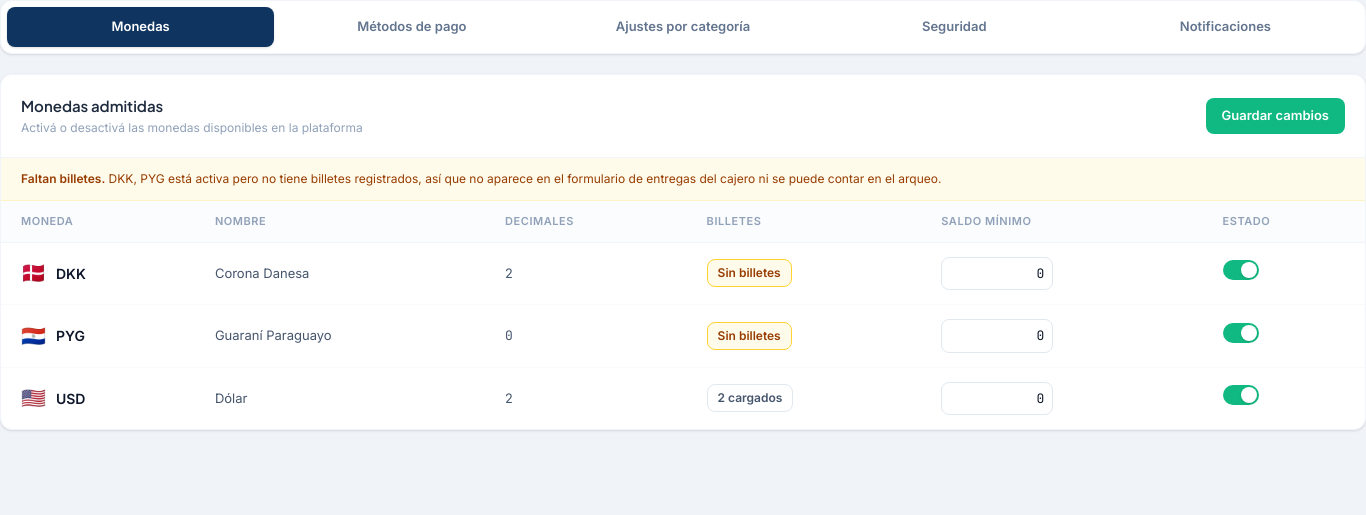
Scenario: Configuration (API + tabs) › guarda un ajuste de precio por categoría
The width and height of the screenshot is (1366, 515).
Check: the heading "Monedas admitidas" is shown, box x1=21 y1=96 x2=163 y2=114
Click the button "Ajustes por categoría" at (683, 27), box x1=549 y1=7 x2=817 y2=46
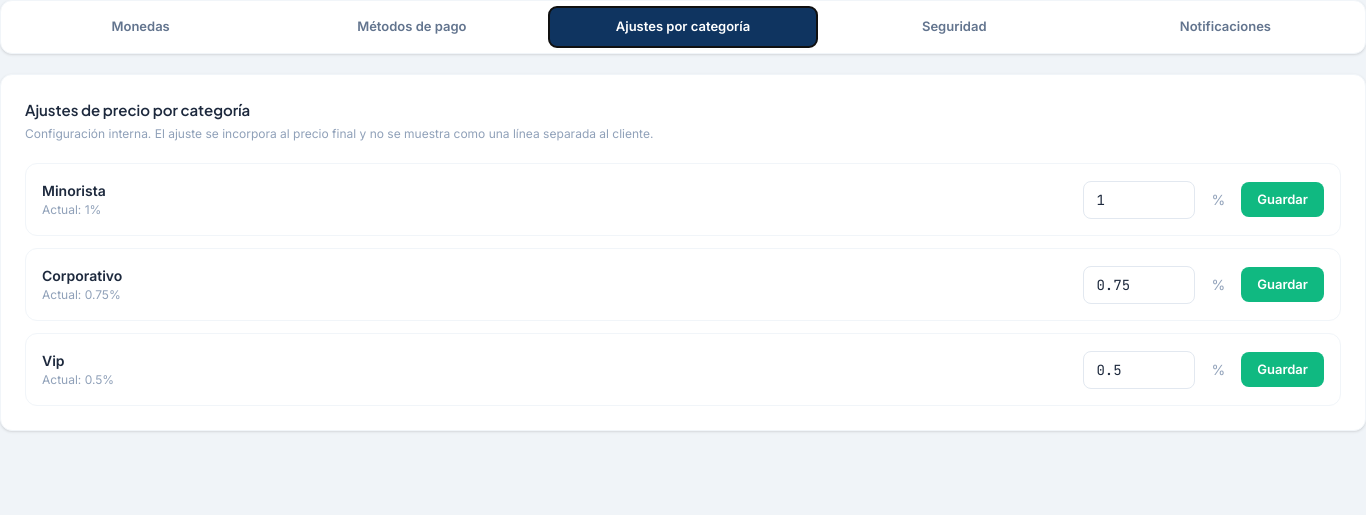
Check: the heading "Ajustes de precio por categoría" is shown, box x1=25 y1=100 x2=250 y2=118
Replace the text in the number field named "Porcentaje MINORISTA" in the row of "minorista" with "2" at (1140, 200), box x1=1084 y1=180 x2=1196 y2=218
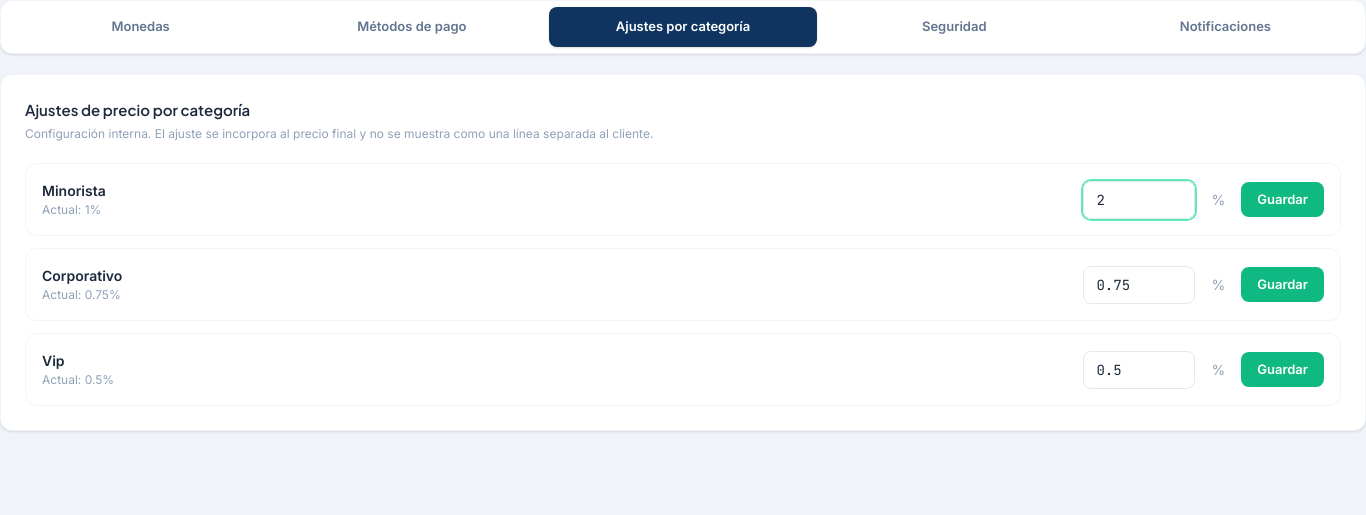
Click the button "Guardar" in the row of "minorista" at (1283, 200), box x1=1241 y1=182 x2=1324 y2=217
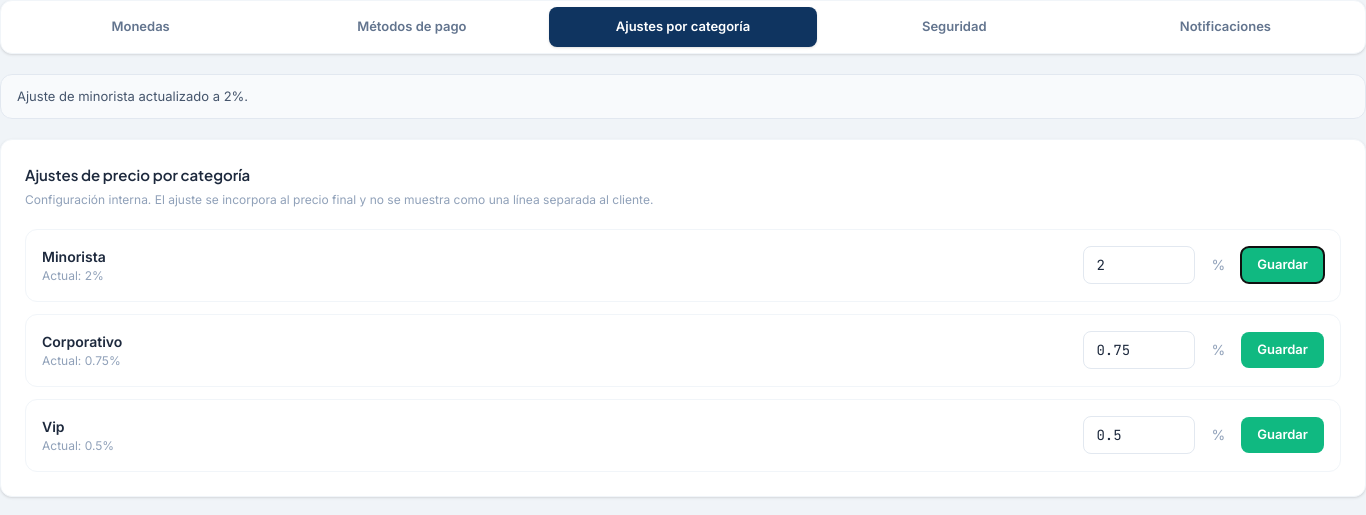
Check: the text "Ajuste de minorista actualizado a 2%." is shown, box x1=0 y1=74 x2=1365 y2=119
